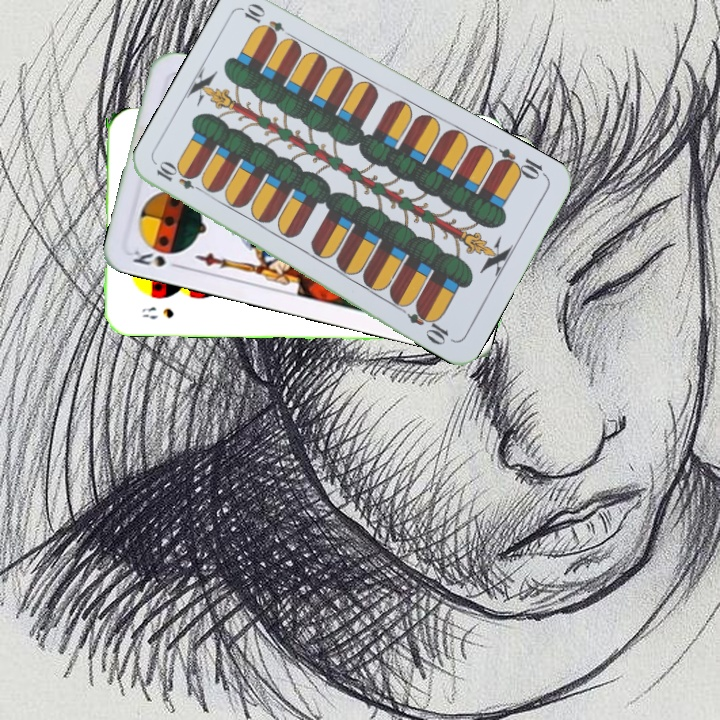E10: (492, 144, 550, 183), (152, 159, 209, 196)
S8: (138, 303, 176, 322)
SK: (127, 246, 185, 271)
